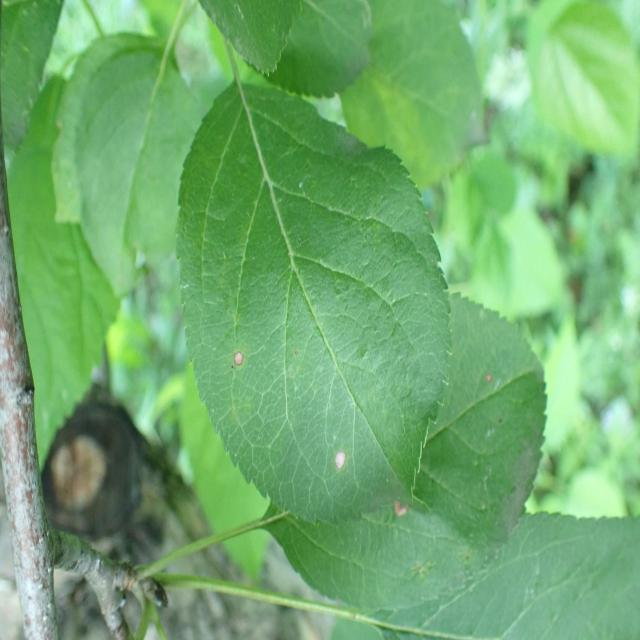Black Rot: (380, 491, 418, 537), (224, 337, 254, 387), (327, 434, 351, 485)
